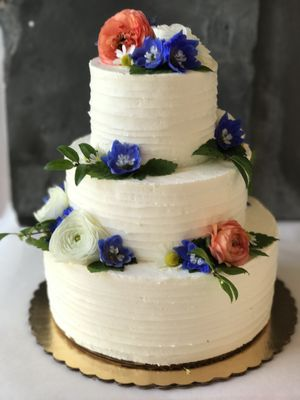sushi: (19, 17, 277, 347)
